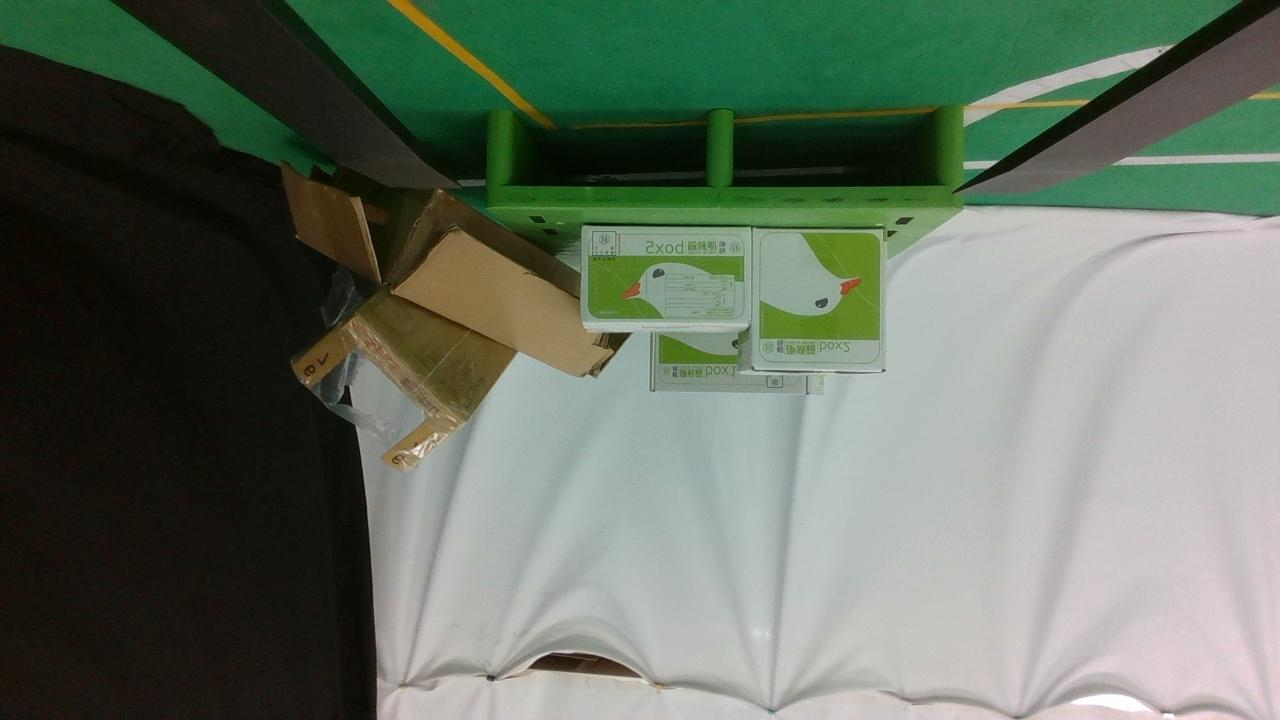Pallet: (487, 106, 967, 211)
